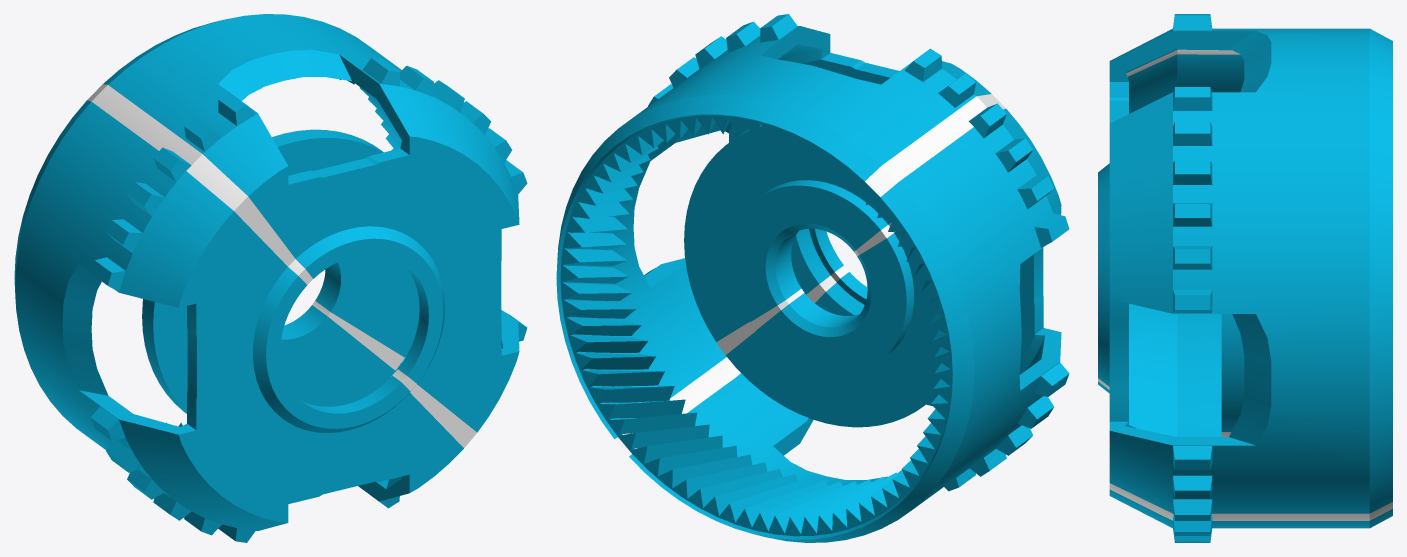
The picture shows the model from 3 angles, left to right: view 1: azimuth 30°, elevation 25°; view 2: azimuth 150°, elevation 25°; view 3: azimuth 270°, elevation 25°; orthographic projection. The views are drawn at different scales.
Parts seen in each view (by area): view 1: 675; view 2: 675; view 3: 675.
Boxes of the visible parts, x1,y1,x2,y2 form: 675: [14, 14, 527, 542]; 675: [556, 14, 1069, 542]; 675: [1098, 14, 1392, 542].
Bounding box in the file's own units: 1305 × 1301 × 764.
